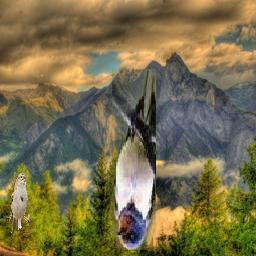Sparrow: (6, 173, 30, 233)
Swallow: (112, 70, 156, 251)
